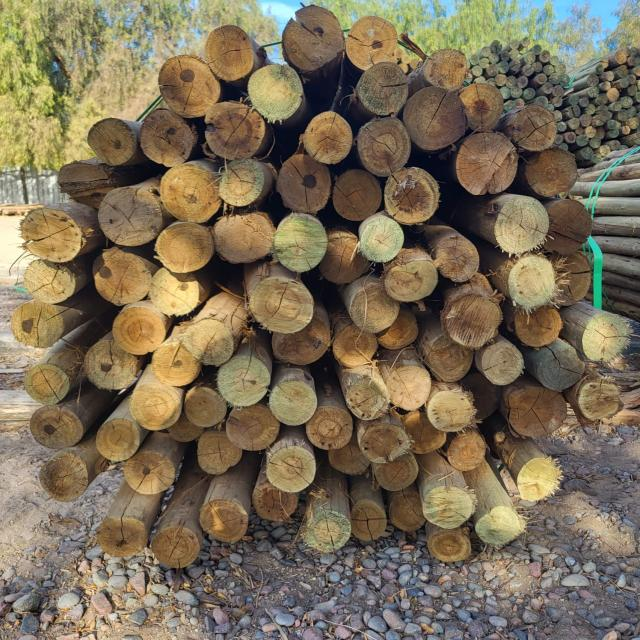package: (12, 6, 629, 572), (567, 40, 640, 158), (470, 36, 567, 114)
